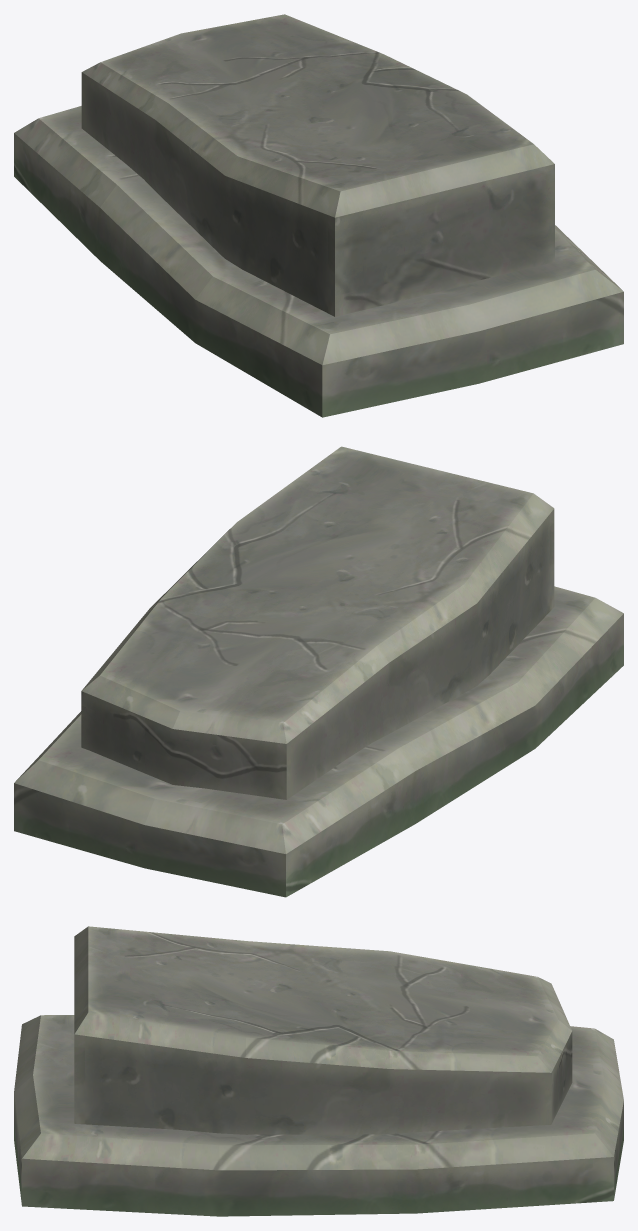
The model's file is Stele02.FBX.
3 views of the same model, one above another, from view 1: azimuth 30°, elevation 25°; view 2: azimuth 150°, elevation 25°; view 3: azimuth 270°, elevation 25° (orthographic). The views are drawn at different scales.
Visible parts, largest first — view 1: Stele02; view 2: Stele02; view 3: Stele02.
Boxes of the visible parts, box(x1,y1,x2,y2) form: Stele02: box(14, 14, 623, 417); Stele02: box(14, 446, 623, 897); Stele02: box(14, 926, 623, 1216).
Size of the model in its own units: 19.33 by 10.02 by 32.58.
